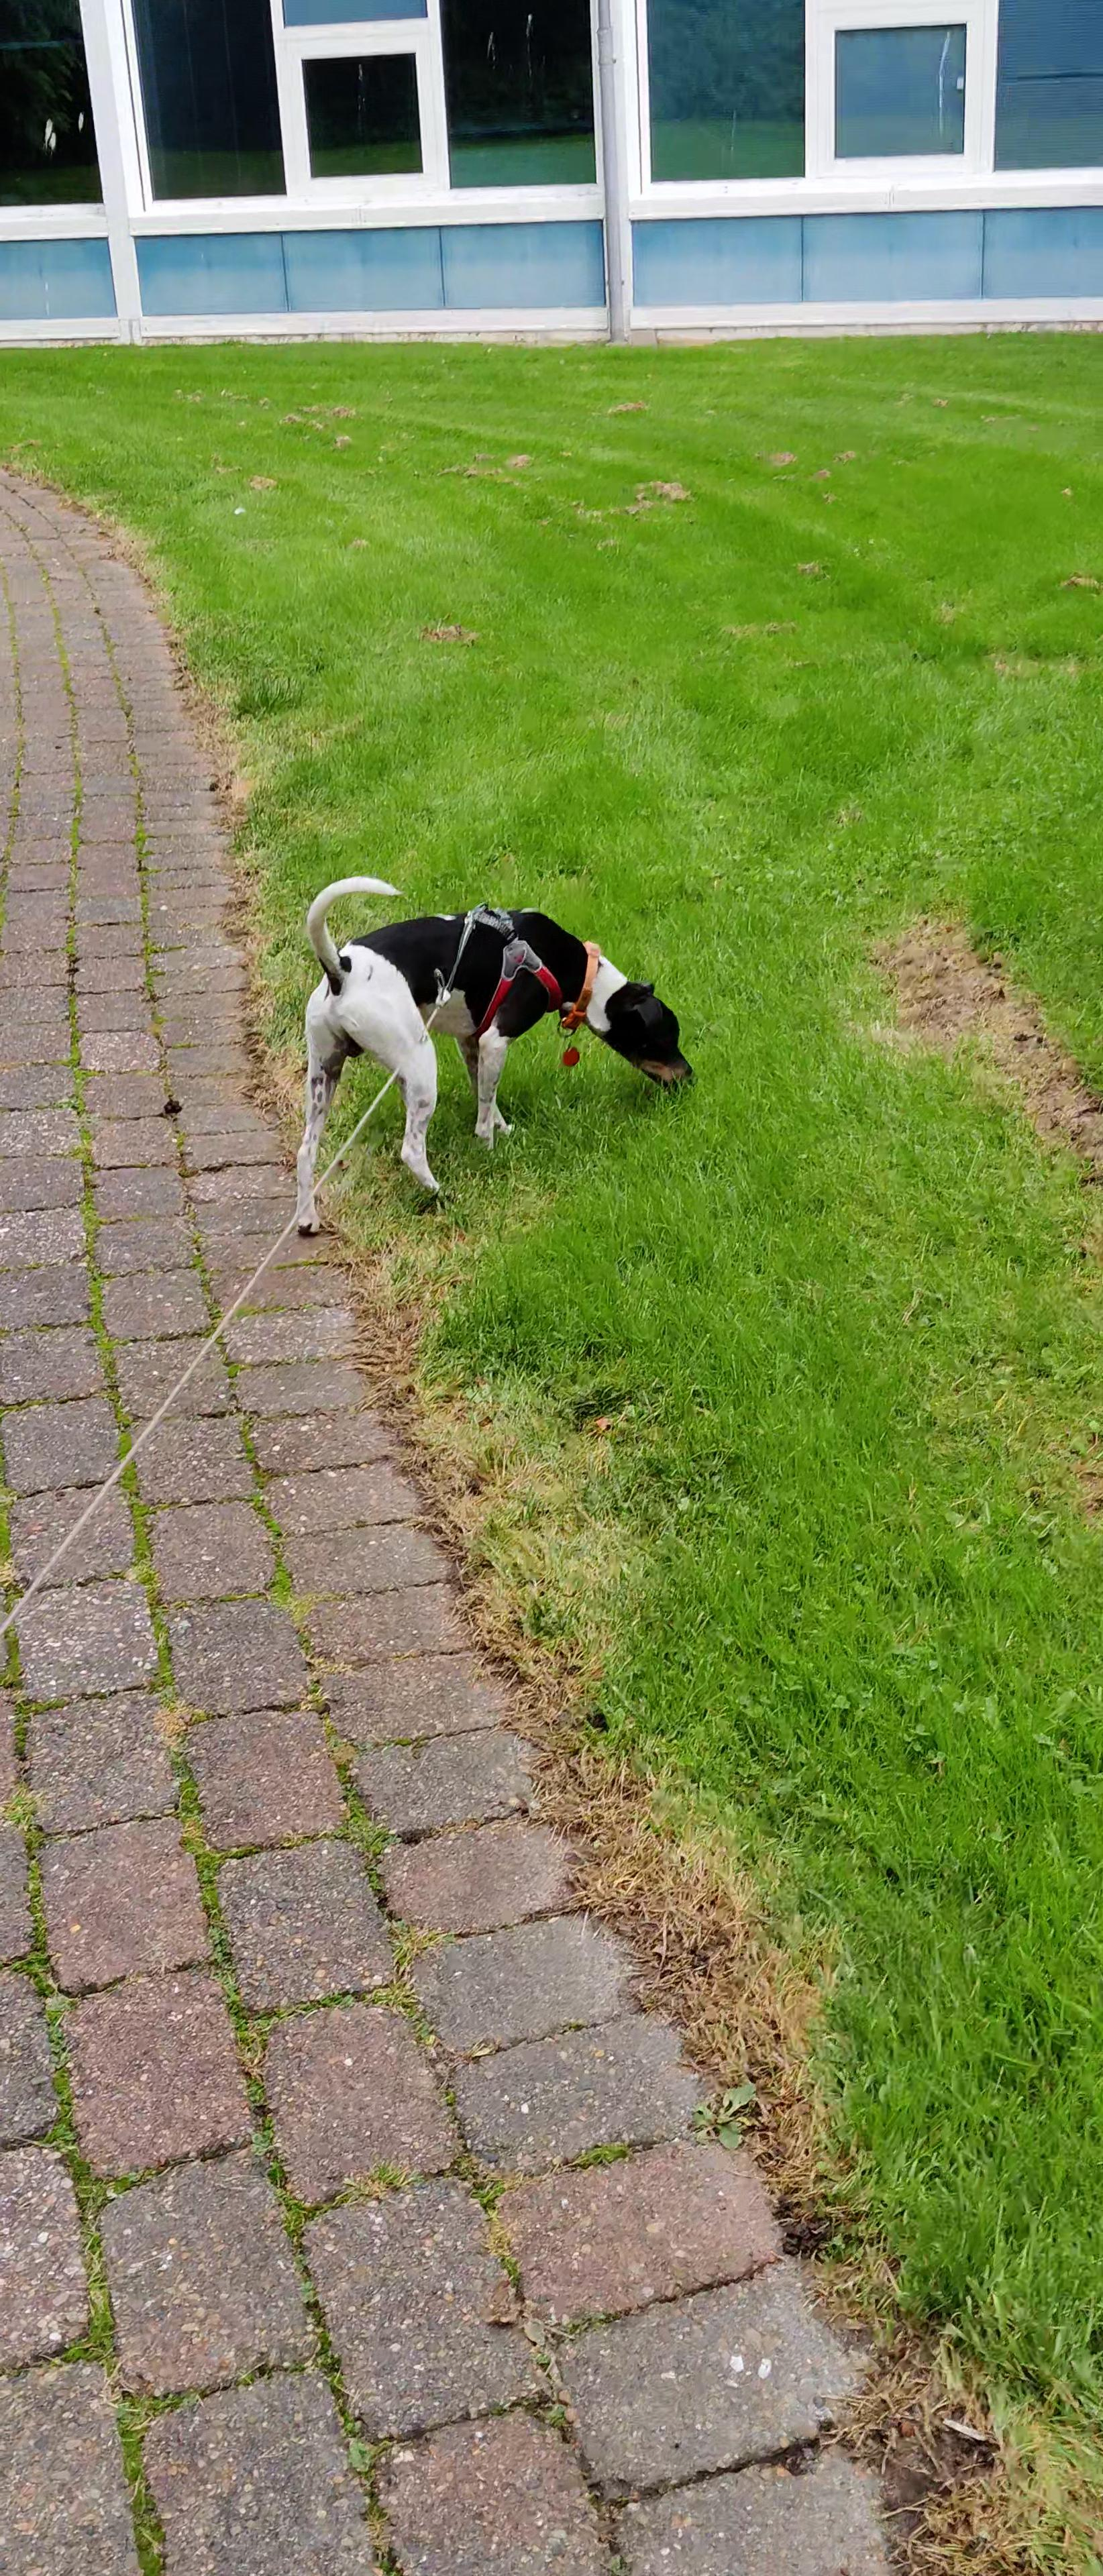Dog: (284, 872, 697, 1239)
